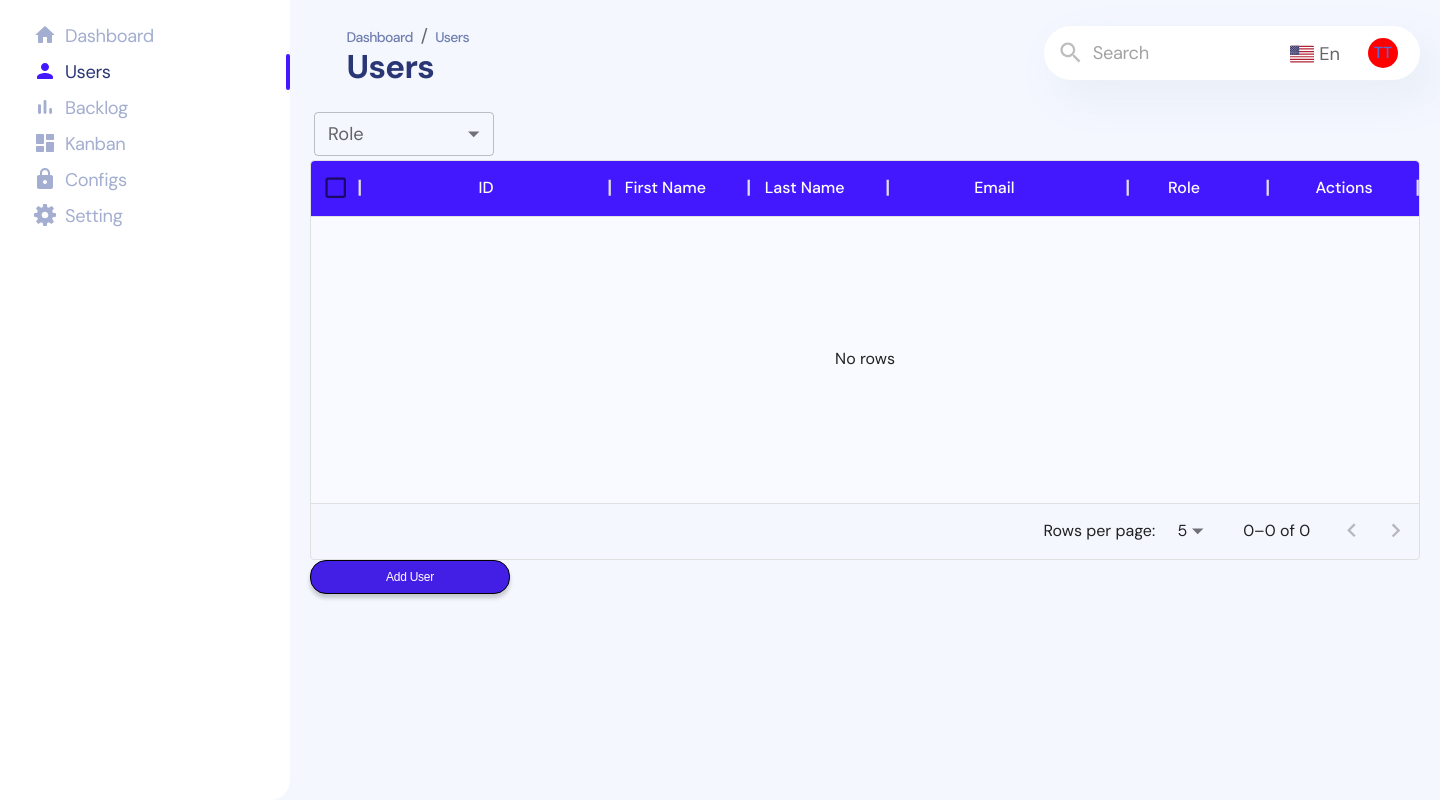
Test: Users API › should cancel adding user
Click the button with test id "addUser". click: (410, 577)
box: [310,560,510,594]
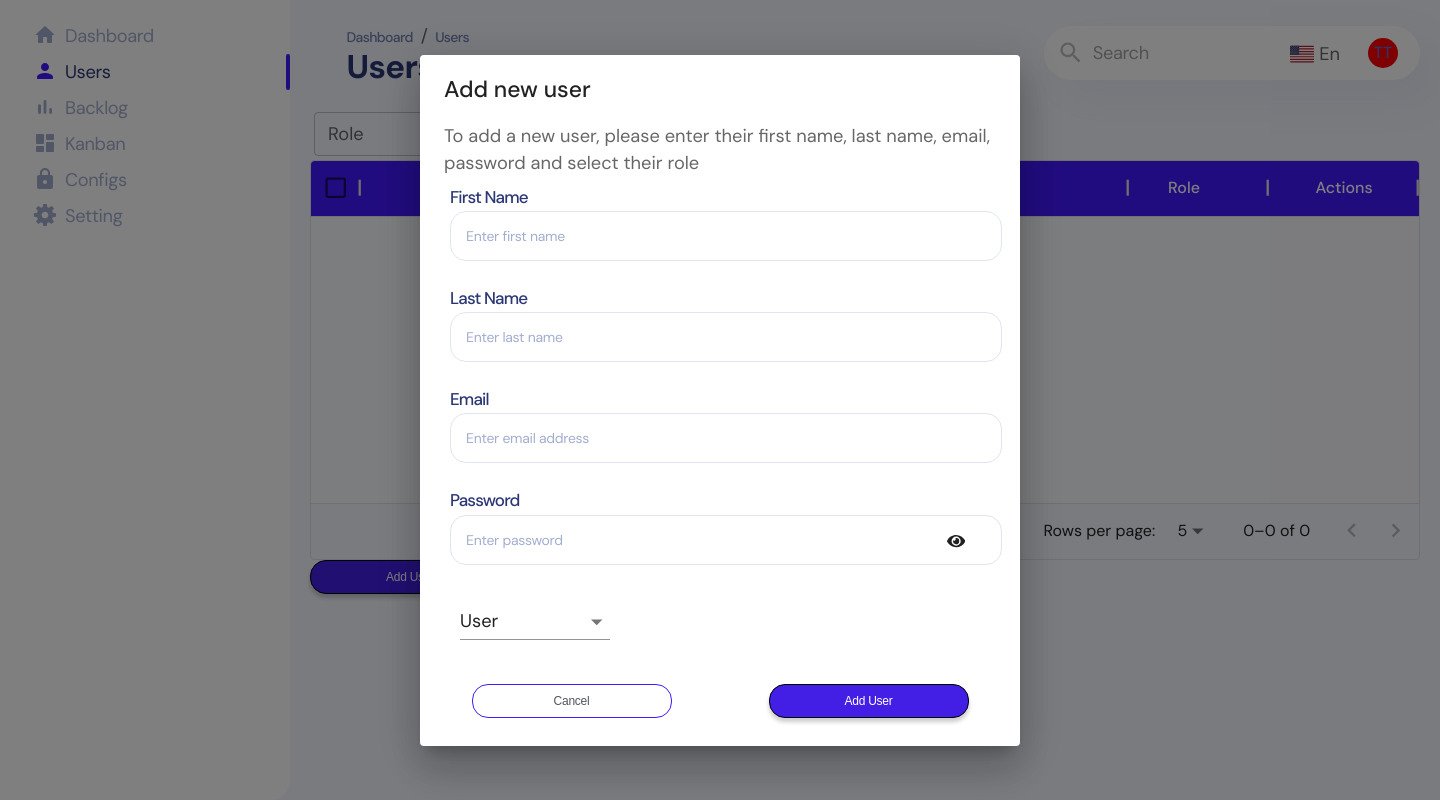
Click the button with test id "cancelUserSubmit". click: (572, 701)
box: [472,684,672,718]
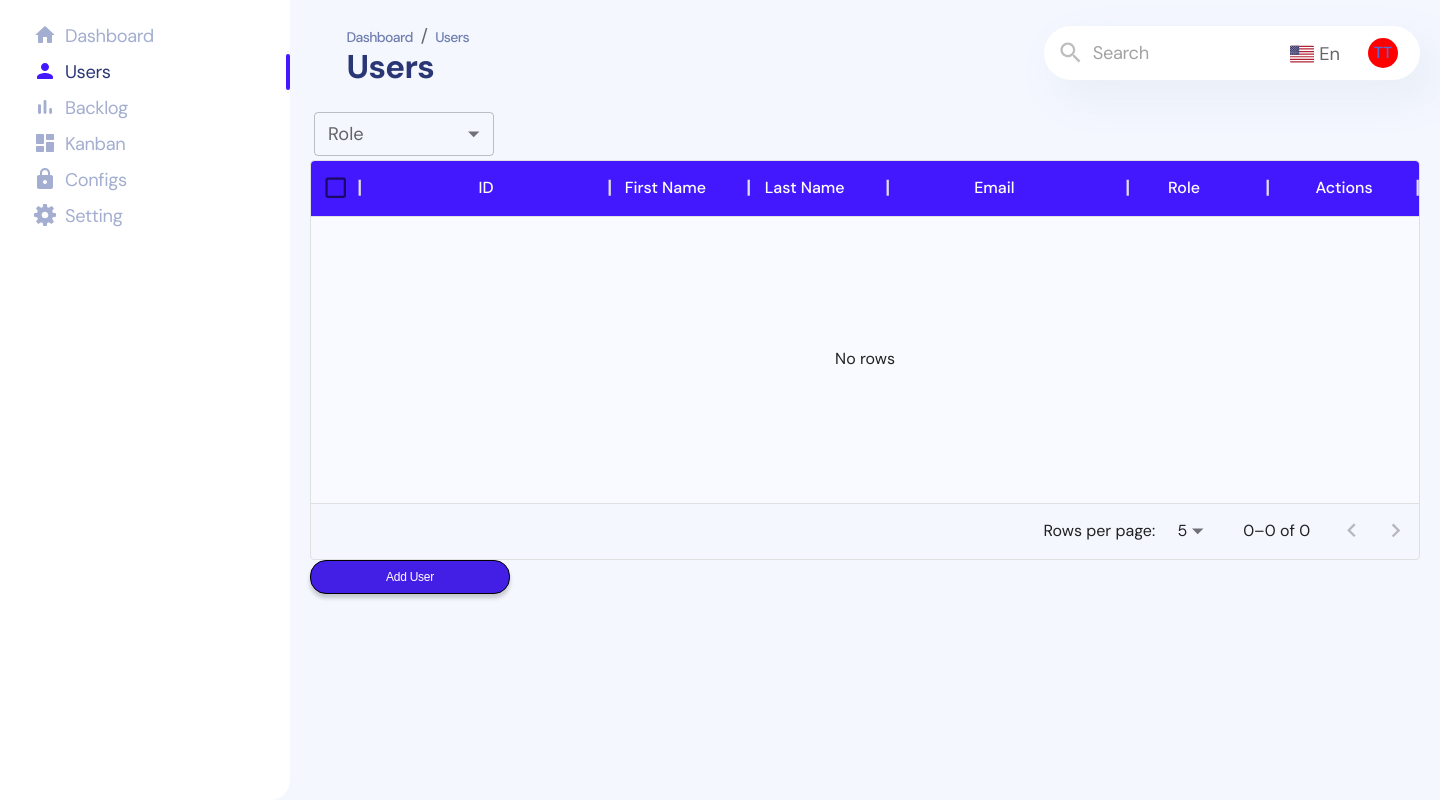
Result: the heading "Add new user" is gone
